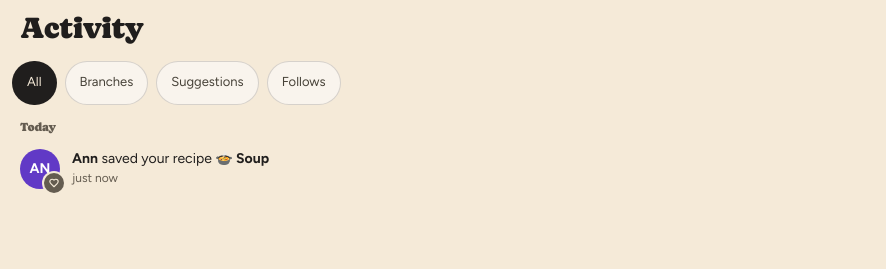
it: ActivityPage › says so under a chip whose pref is off
Click the button "Follows" at (304, 82), box x1=267 y1=60 x2=340 y2=104
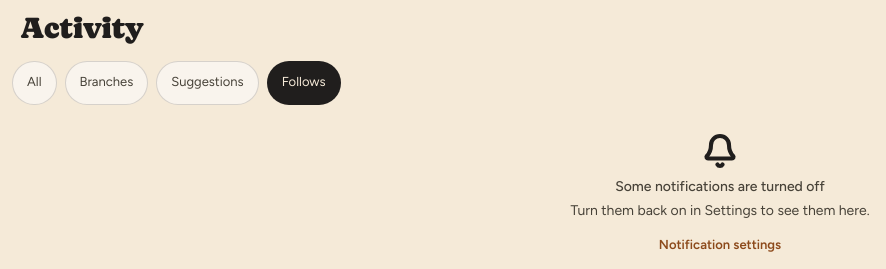
Expected: the text "Some notifications are turned off" is shown, x1=615 y1=176 x2=825 y2=196
